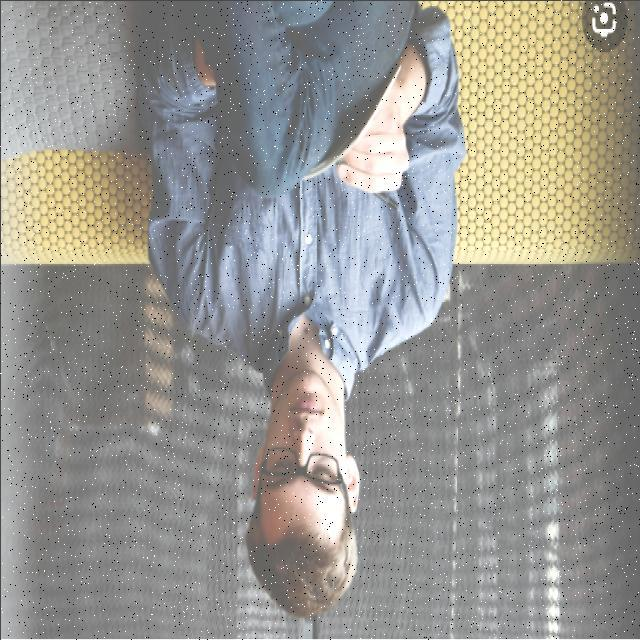face_no_mask: (251, 373, 360, 553)
